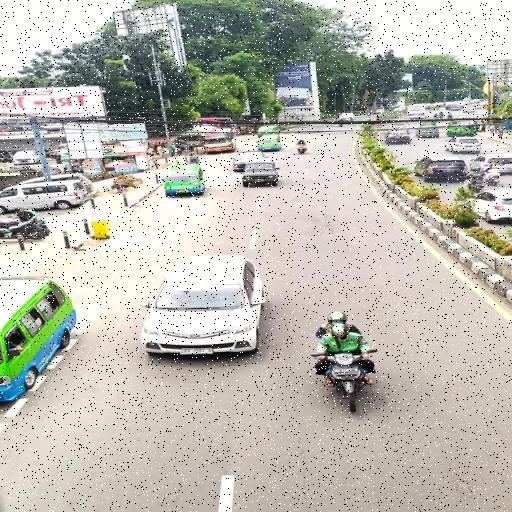Helmet: (326, 308, 352, 346)
Motor: (313, 351, 378, 415)
